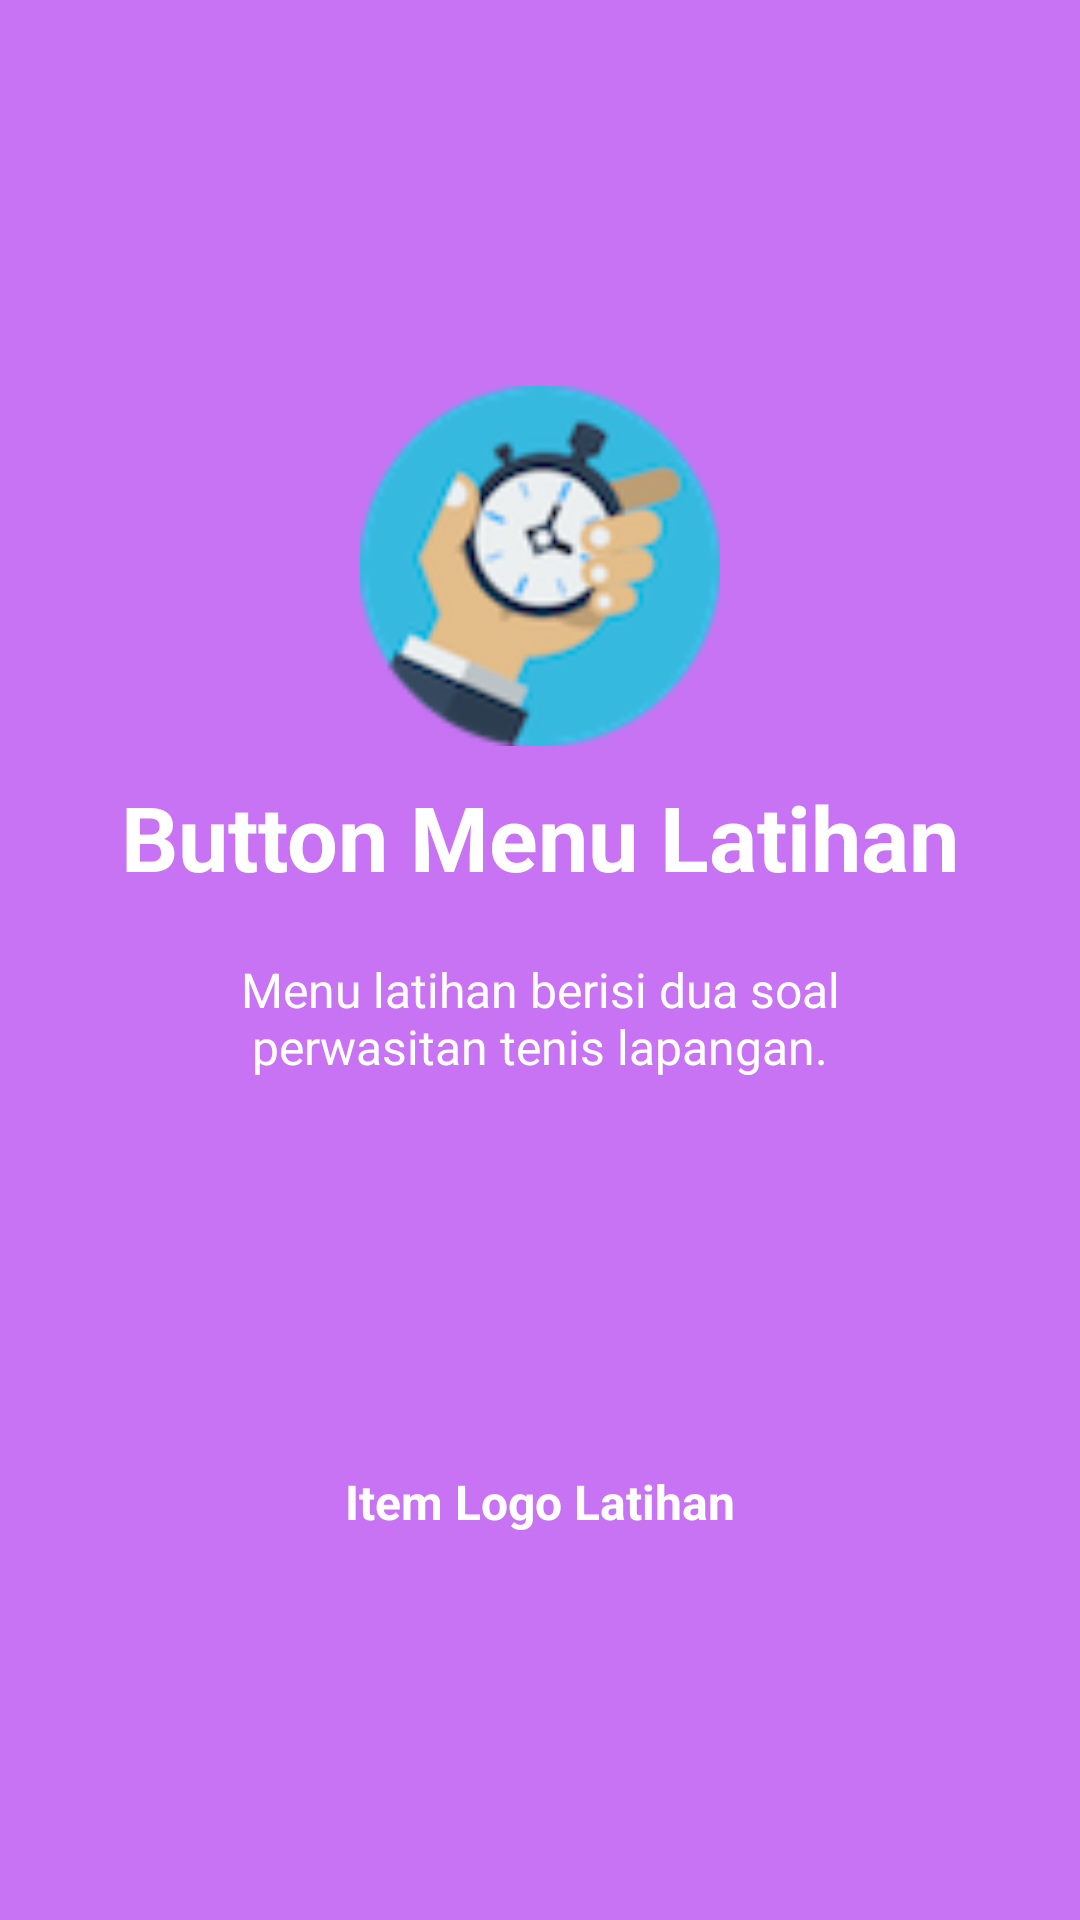

Icons on this 1080w x 1920h Android screen, each with its box as [left=x1, top=y1, right=x2, bottom=y2]:
stopwatch: [left=360, top=386, right=720, bottom=746]
